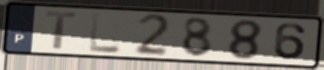2: (133, 12, 173, 57)
6: (274, 22, 307, 62)
8: (227, 18, 265, 61), (181, 16, 216, 59)
L: (88, 11, 123, 55)
T: (44, 11, 79, 51)
